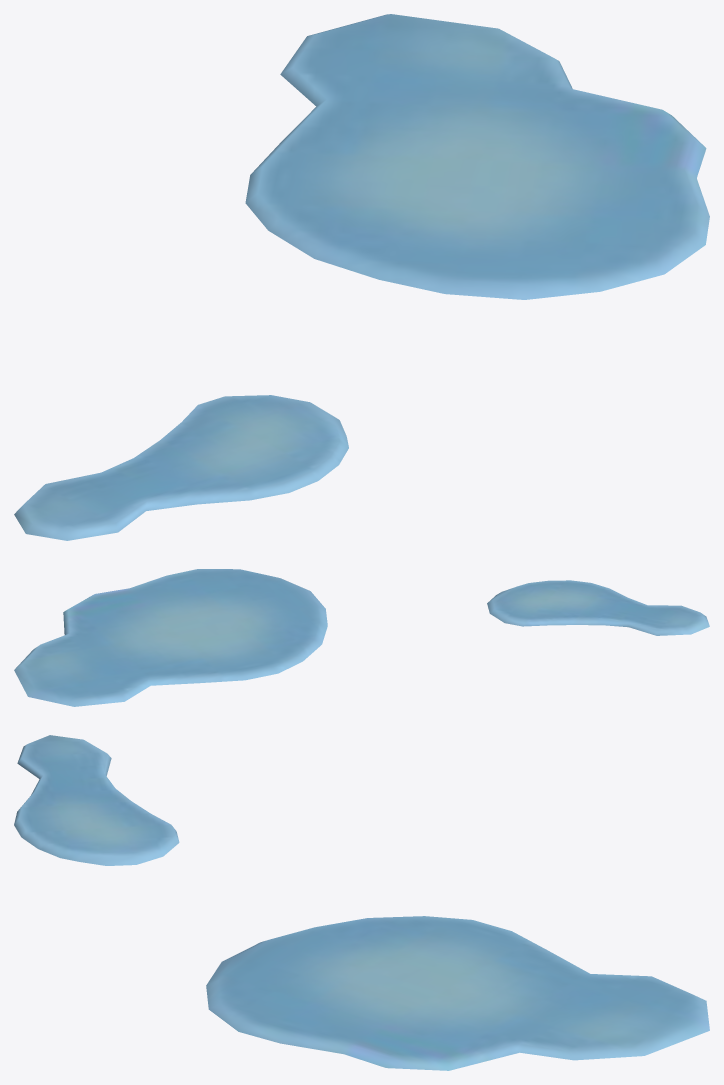
The picture shows the model from 3 angles, top to bottom: view 1: azimuth 30°, elevation 25°; view 2: azimuth 150°, elevation 25°; view 3: azimuth 270°, elevation 25°; orthographic projection. The views are drawn at different scales.
Parts seen in each view (by area): view 1: SM_shuitan; view 2: SM_shuitan; view 3: SM_shuitan.
Boxes of the visible parts, x1,y1,x2,y2 form: SM_shuitan: (14,14,709,540); SM_shuitan: (14,569,709,706); SM_shuitan: (14,735,709,1070).
Size of the model in its own units: 6.38 by 0.0535 by 5.64.
Materials: 1 (1 with a texture image).
